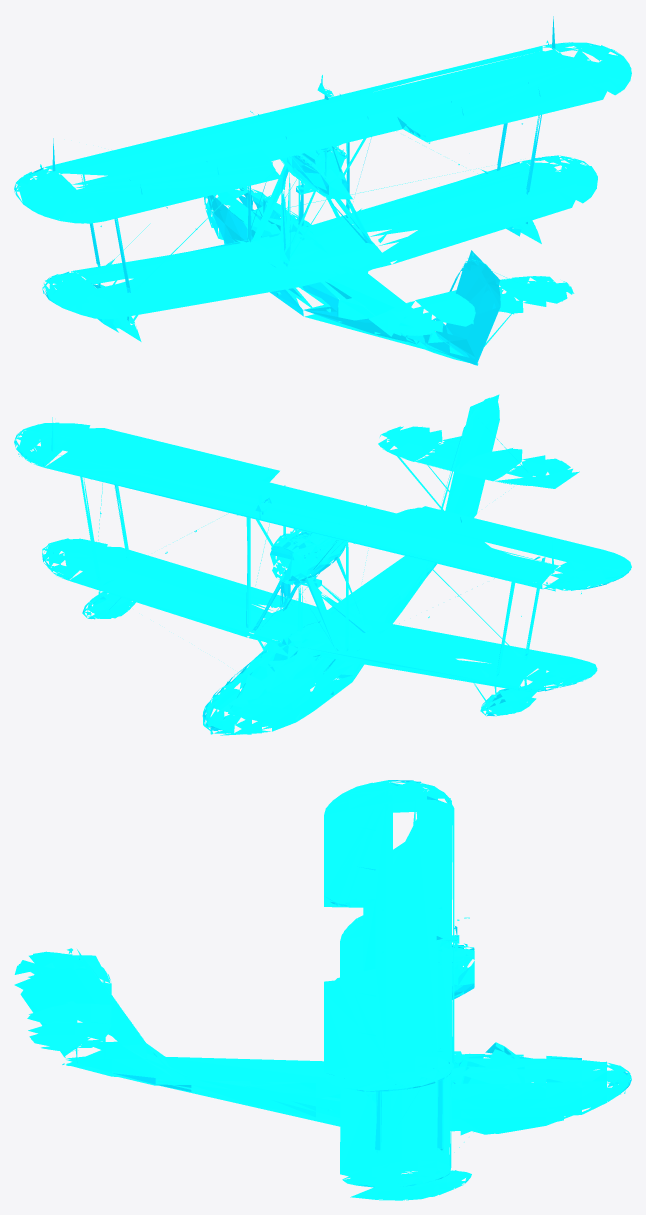
File: PIAS004.glb
3 renders of one model, top to bottom at view 1: azimuth 30°, elevation 25°; view 2: azimuth 150°, elevation 25°; view 3: azimuth 270°, elevation 25°, orthographic. The views are drawn at different scales.
Parts seen in each view (by area): view 1: misc; view 2: misc; view 3: misc.
Boxes of the visible parts, x1,y1,x2,y2 form: misc: (14, 16, 631, 365); misc: (14, 394, 631, 735); misc: (14, 780, 631, 1200).
Size of the model in its own units: 0.6926 by 0.2391 by 0.584.
